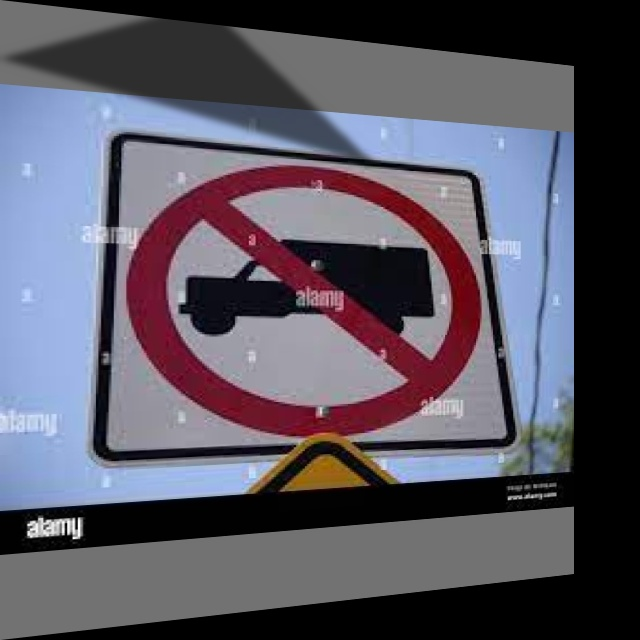Truck_Prohibited: (129, 151, 491, 442)
